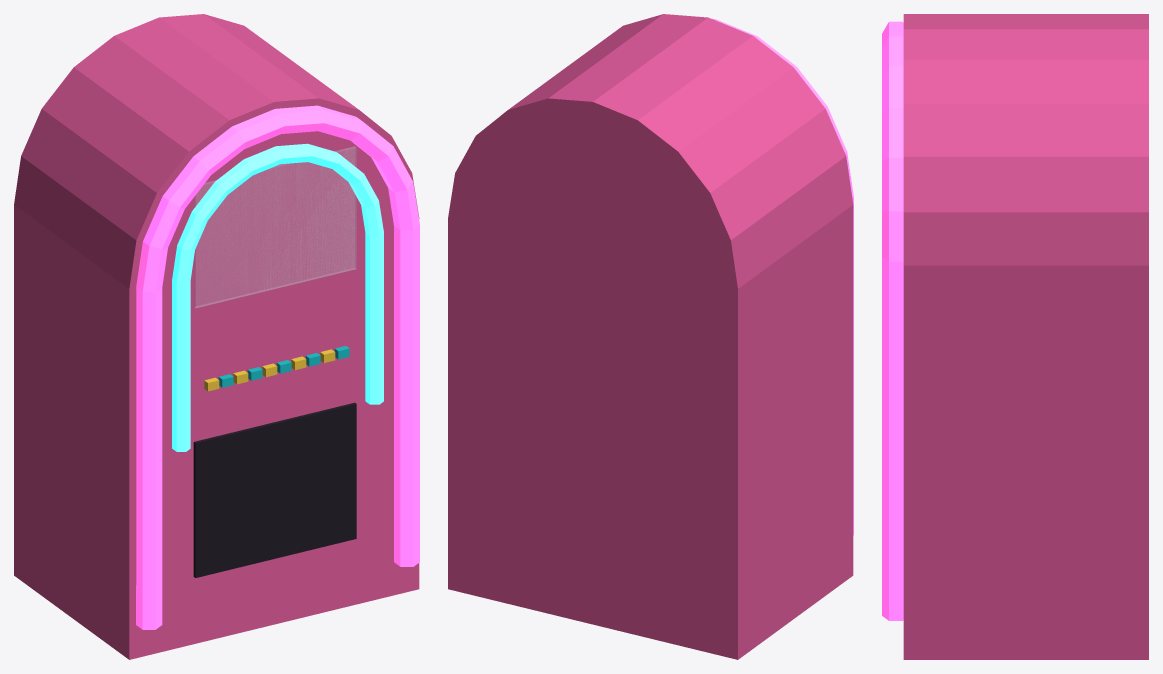
3 renders of one model, left to right at view 1: azimuth 30°, elevation 25°; view 2: azimuth 150°, elevation 25°; view 3: azimuth 270°, elevation 25°, orthographic. The views are drawn at different scales.
Visible parts, largest first — view 1: cabinet, bubble_arc, grille, window, bubble_arc_inner; view 2: cabinet, bubble_arc; view 3: cabinet, bubble_arc.
Part boxes in pixels (left/top/right/bottom): cabinet: left=14, top=14, right=419, bottom=659; bubble_arc: left=136, top=105, right=419, bottom=629; grille: left=193, top=402, right=356, bottom=577; window: left=194, top=146, right=356, bottom=307; bubble_arc_inner: left=172, top=143, right=383, bottom=451; cabinet: left=448, top=14, right=853, bottom=659; bubble_arc: left=712, top=18, right=853, bottom=535; cabinet: left=903, top=14, right=1148, bottom=659; bubble_arc: left=882, top=21, right=903, bottom=620.
Bounding box in the file's own units: 0.9 × 1.55 × 0.675.
